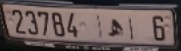2: (11, 9, 25, 34)
3: (26, 10, 38, 36)
4: (66, 11, 79, 38)
6: (151, 15, 167, 42)
7: (37, 11, 50, 36)
8: (51, 12, 65, 37)
h: (105, 18, 125, 37)
